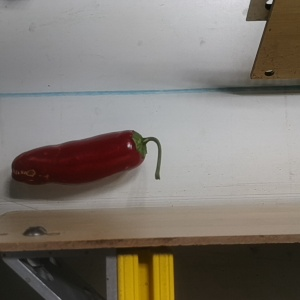Cut Point: (120, 128, 150, 164)
